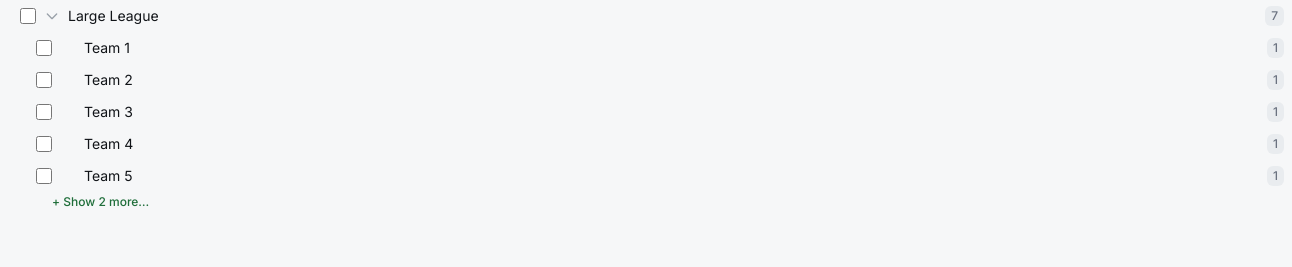
Test: CategoryTreeNode › progressive child reveal › reveals all children when "Show N more" is clicked
Click the button "+ Show 2 more…" at coordinates (81, 202), box 12,194 -> 149,210
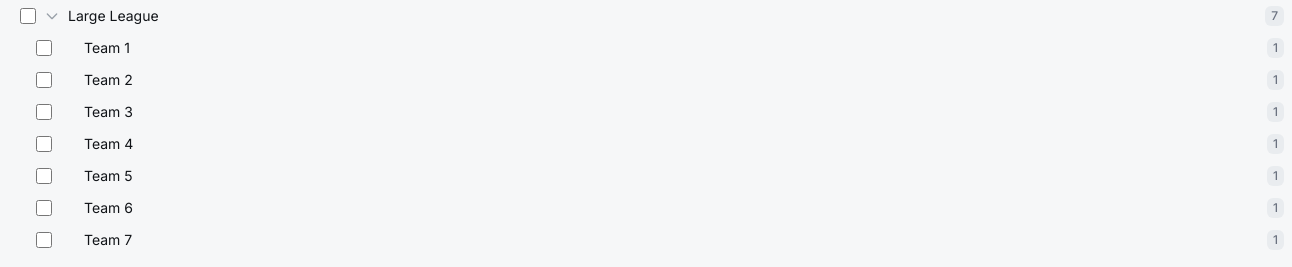
expect the text "Team 6" is shown: met, box 84,199 -> 133,216
expect the text "Team 7" is shown: met, box 84,231 -> 132,248
